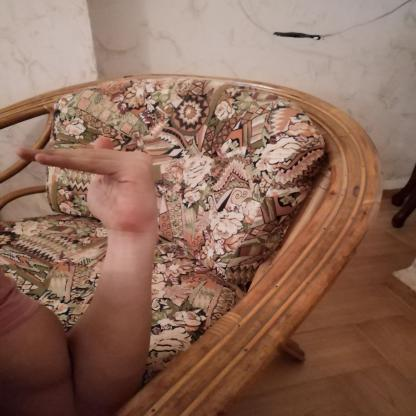KHAA: (4, 127, 172, 241)
